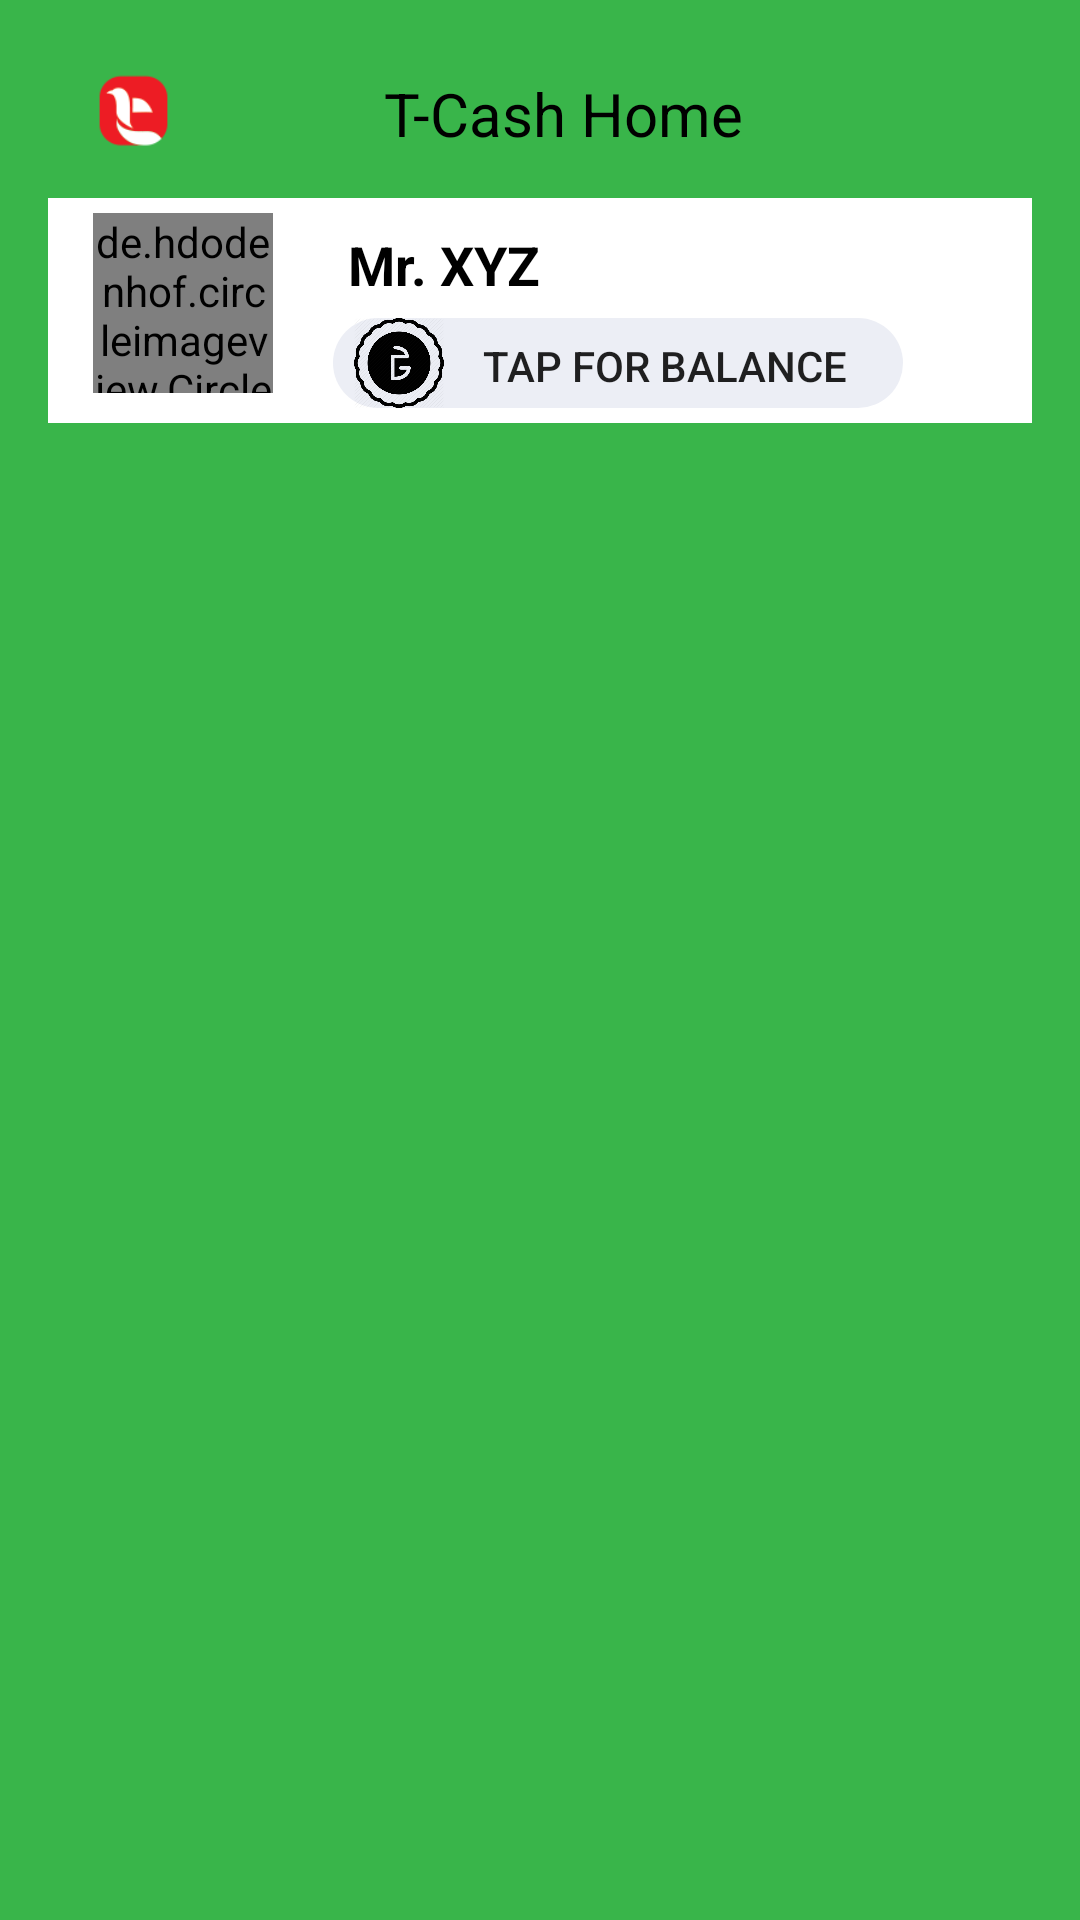

Icon click points for this 1080×1920 phone screenshot, format (x,y):
taka: (399,363)
